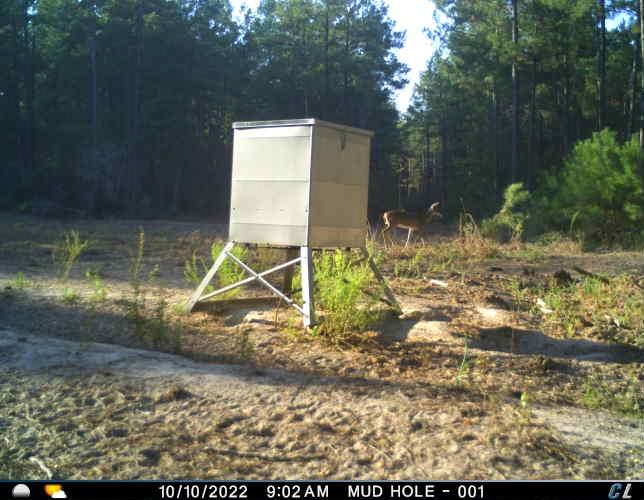Deer: (382, 199, 448, 249)
